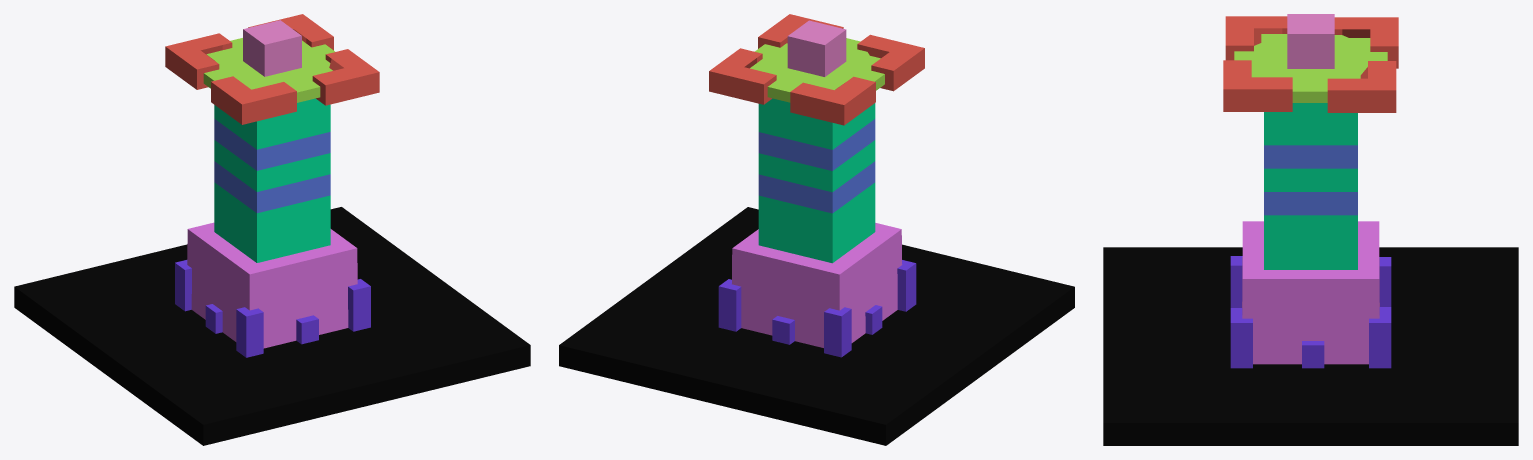
File: turret_Lv2.fbx
3 renders of one model, left to right at view 1: azimuth 30°, elevation 25°; view 2: azimuth 150°, elevation 25°; view 3: azimuth 270°, elevation 25°, orthographic. The views are drawn at different scales.
Parts seen in each view (by area): view 1: Cube.004; view 2: Cube.004; view 3: Cube.004.
Part boxes in pixels (<box>): Cube.004: <box>14,14,530,445</box>; Cube.004: <box>559,14,1074,445</box>; Cube.004: <box>1103,14,1518,445</box>.
Bounding box in the file's own units: 200 × 177 × 200.
